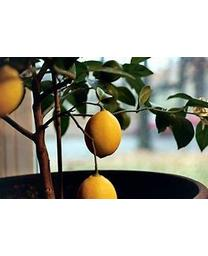lemon: (86, 109, 121, 157)
